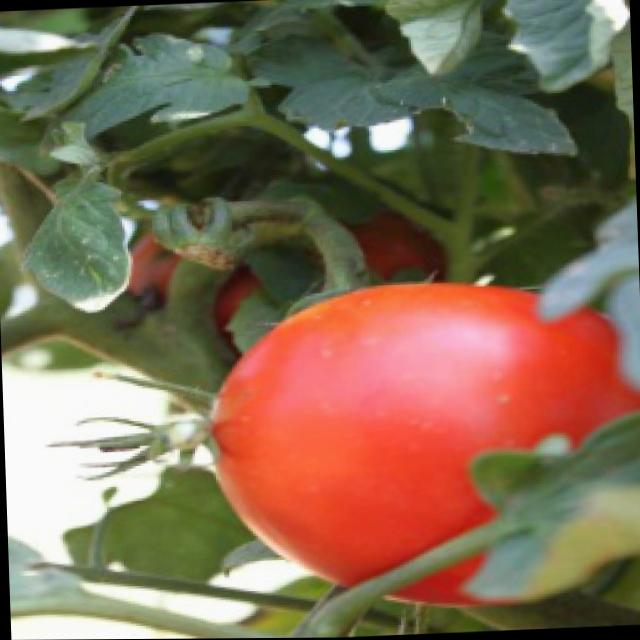tomato: (206, 275, 640, 598)
